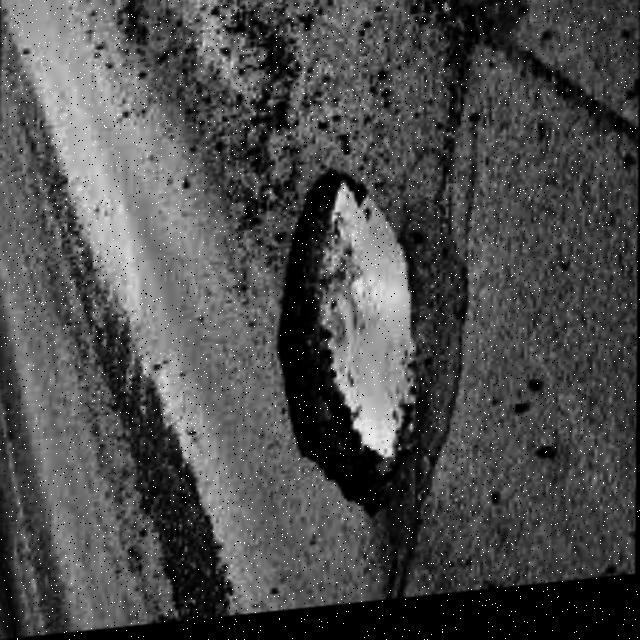pothole: (270, 167, 423, 535)
